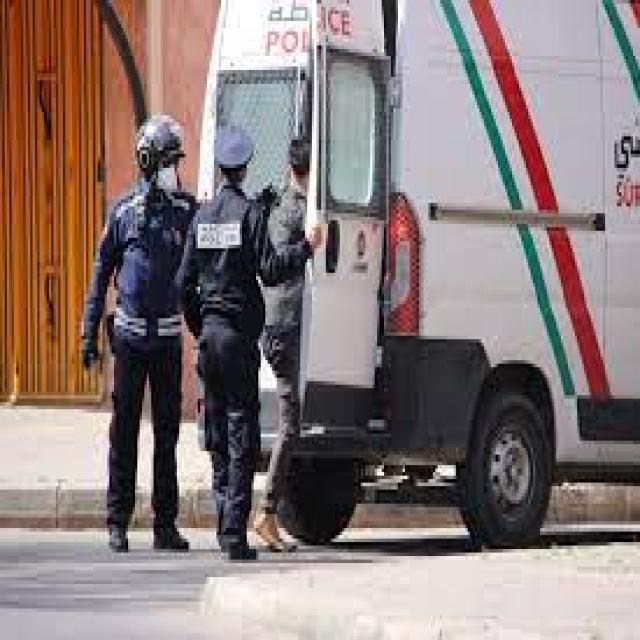police: (189, 0, 640, 547)
